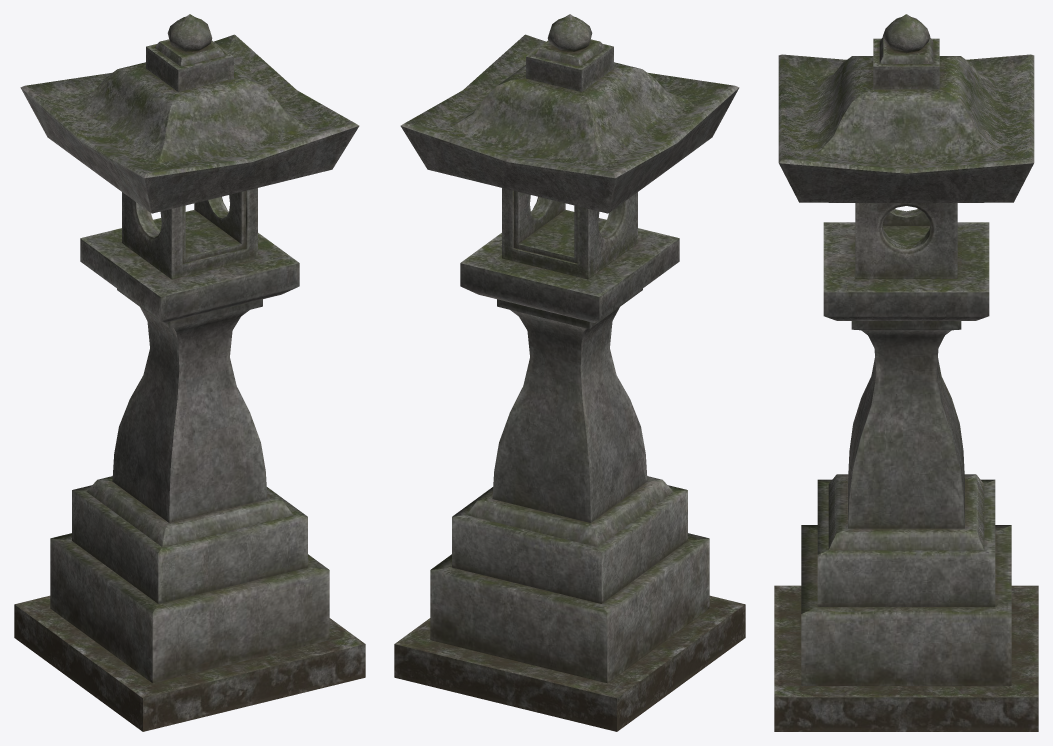
3 views of the same model, side by side, from view 1: azimuth 30°, elevation 25°; view 2: azimuth 150°, elevation 25°; view 3: azimuth 270°, elevation 25° (orthographic). The views are drawn at different scales.
Parts seen in each view (by area): view 1: Tourou_c_low, Tourou_b_low, Tourou_a_low; view 2: Tourou_c_low, Tourou_b_low, Tourou_a_low; view 3: Tourou_c_low, Tourou_b_low, Tourou_a_low.
Boxes of the visible parts, x1,y1,x2,y2 form: Tourou_c_low: (14, 228, 365, 731); Tourou_b_low: (20, 34, 359, 279); Tourou_a_low: (167, 14, 212, 51); Tourou_c_low: (394, 228, 745, 731); Tourou_b_low: (400, 34, 739, 279); Tourou_a_low: (547, 14, 592, 51); Tourou_c_low: (774, 222, 1038, 731); Tourou_b_low: (778, 37, 1034, 278); Tourou_a_low: (882, 14, 930, 53).
Size of the model in its own units: 72.38 by 200 by 72.38.
